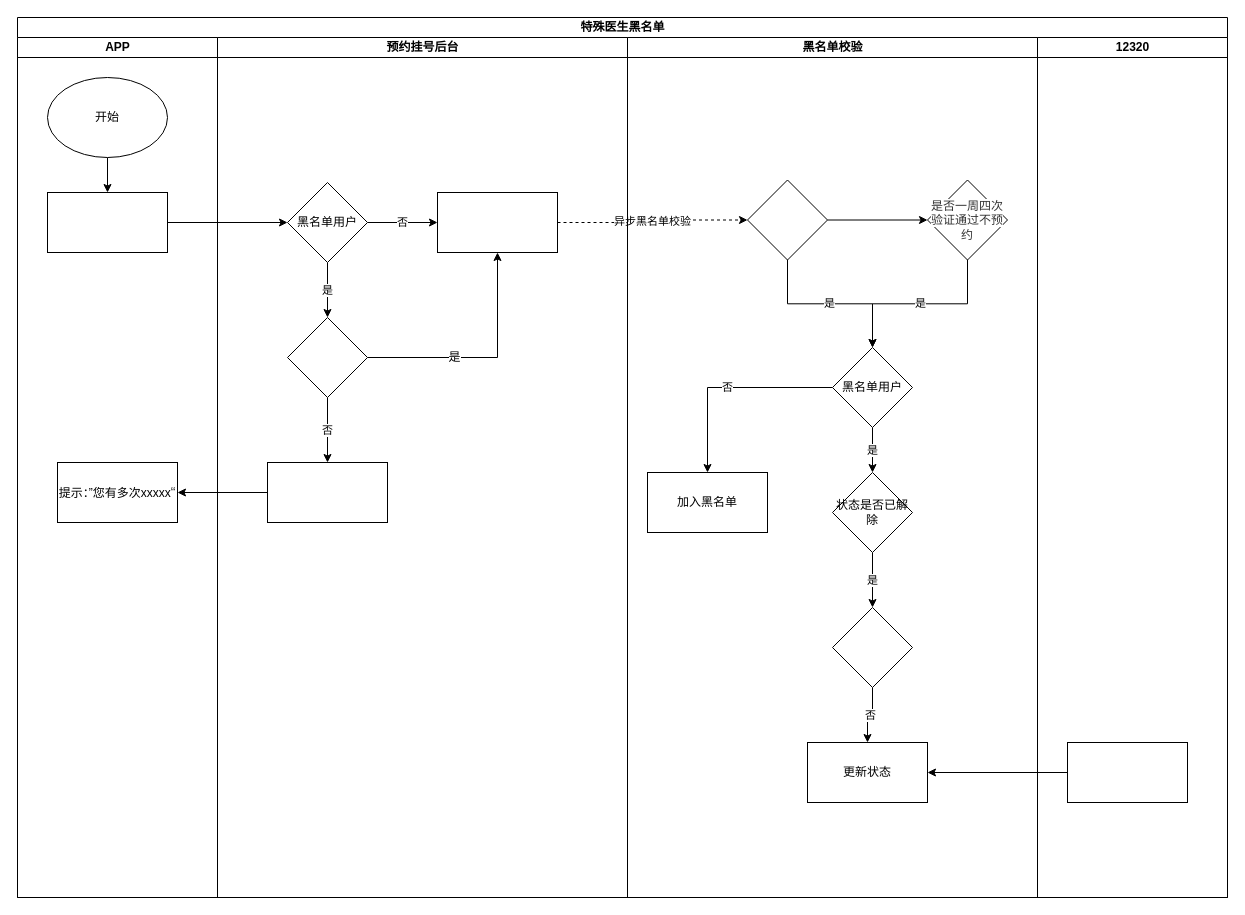
Image size: 1245x915. Some labels were removed from this diagram. Each missing label, with the centre of its shape:
发送短信: pixel 497 222
是否一天两次验证通过不预约: pixel 787 219
是否当天解除: pixel 872 647
是否当天解除黑名单: pixel 327 357
点击发送验证码: pixel 107 222
解除黑名单: pixel 1127 772
返回错误：”您有多次xxxxx “: pixel 327 492
